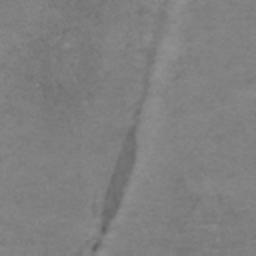Finishing roll printing: (91, 0, 166, 252)
